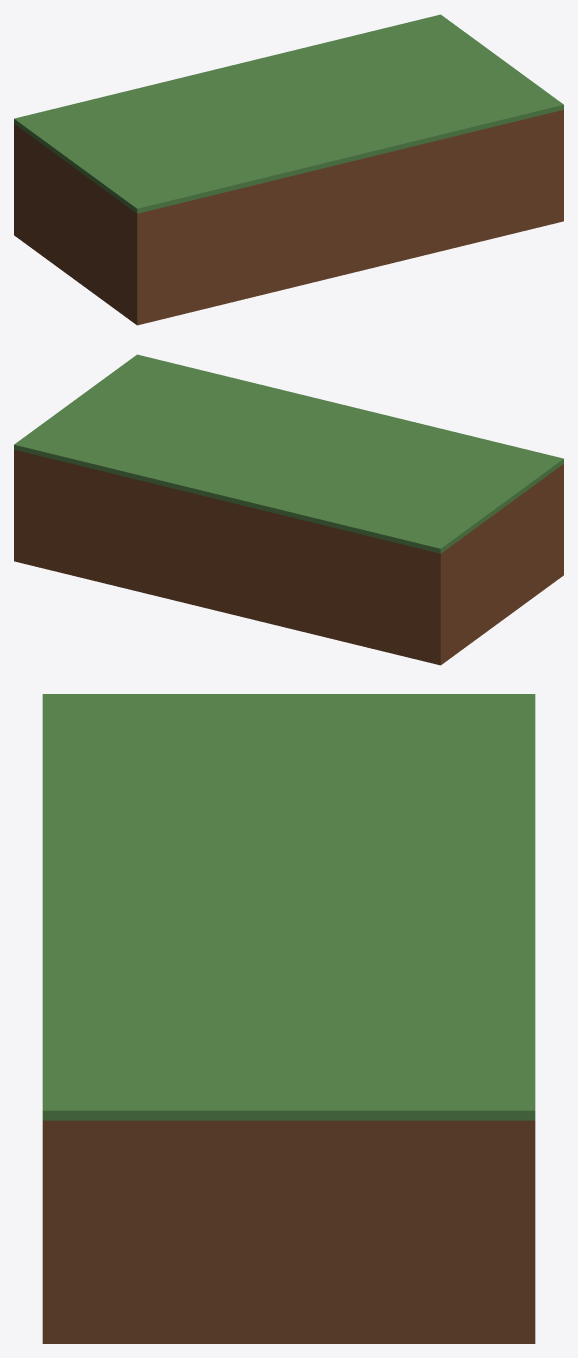
The model's file is grass.obj.
3 renders of one model, top to bottom at view 1: azimuth 30°, elevation 25°; view 2: azimuth 150°, elevation 25°; view 3: azimuth 270°, elevation 25°, orthographic. The views are drawn at different scales.
Visible parts, largest first — view 1: Ground.002, road.002; view 2: Ground.002, road.002; view 3: road.002, Ground.002.
Boxes of the visible parts, box(x1,y1,x2,y2) form: Ground.002: box(14, 109, 563, 325); road.002: box(14, 14, 563, 213); Ground.002: box(14, 449, 563, 665); road.002: box(14, 354, 563, 553); road.002: box(42, 694, 535, 1120); Ground.002: box(42, 1120, 535, 1343).
Bounding box in the file's own units: 8 × 2.09 × 4.
